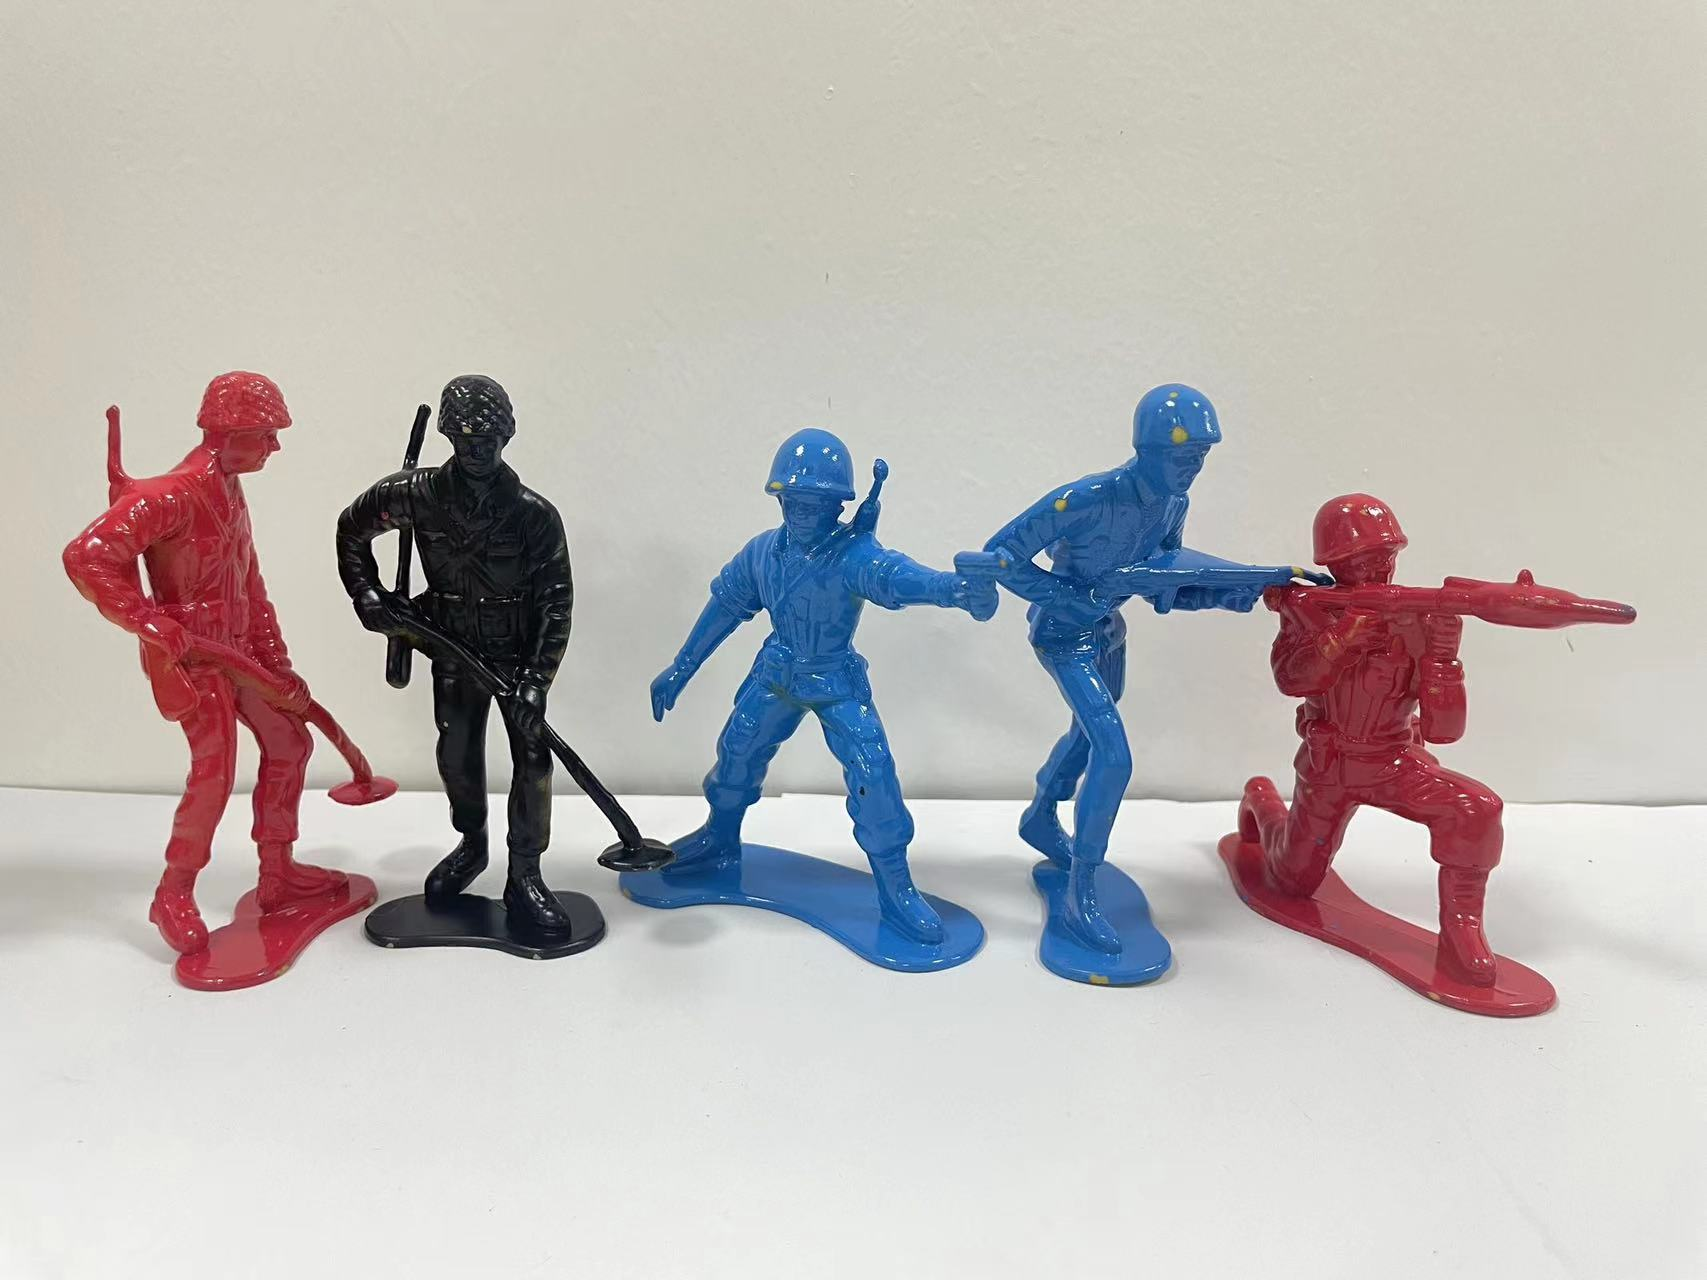black: (331, 360, 634, 1008)
blue: (630, 415, 988, 1002), (968, 356, 1273, 1021)
red: (1254, 475, 1671, 1038), (38, 343, 364, 1047)
